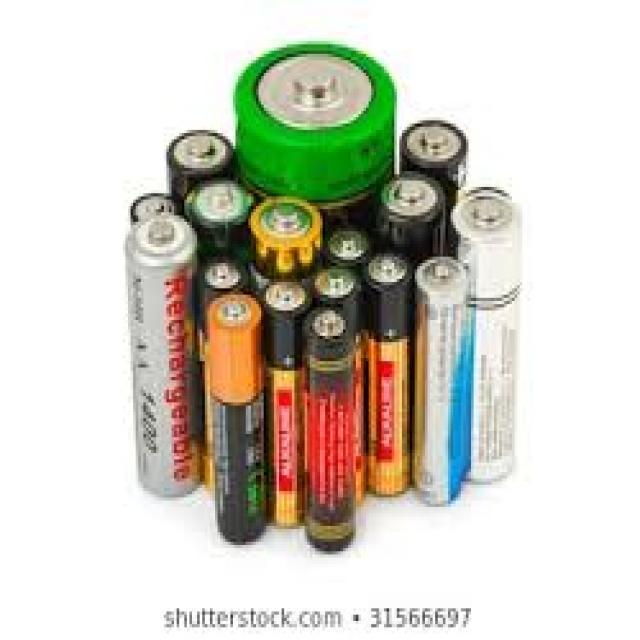battery: (125, 211, 198, 504), (444, 190, 516, 484), (204, 297, 272, 546), (258, 274, 320, 531), (302, 307, 364, 559), (412, 254, 472, 508), (362, 246, 415, 498)
